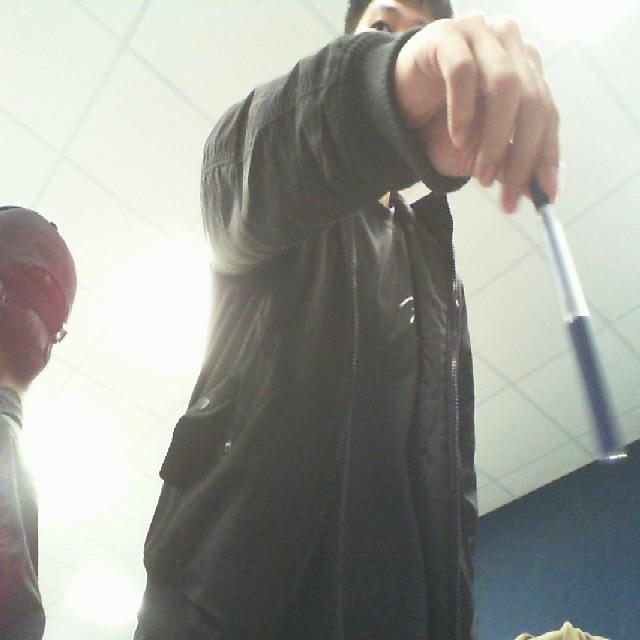Pen: (511, 144, 638, 477)
